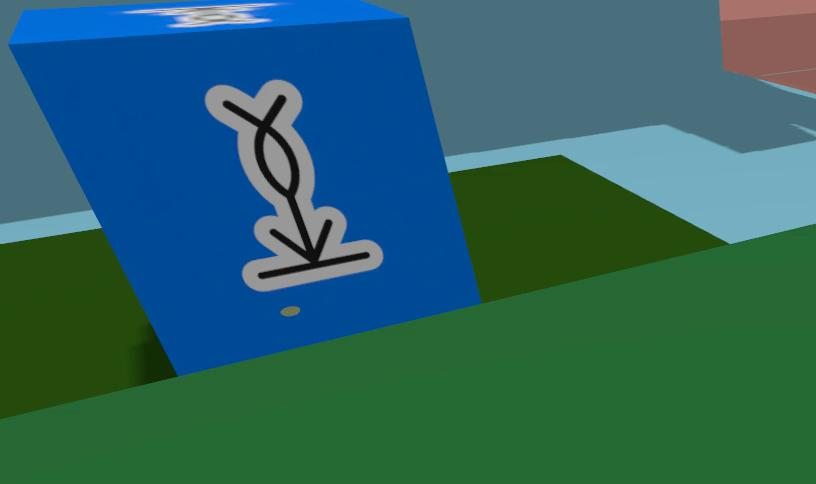KFS_REAL: (9, 0, 478, 374), (206, 80, 382, 291)
